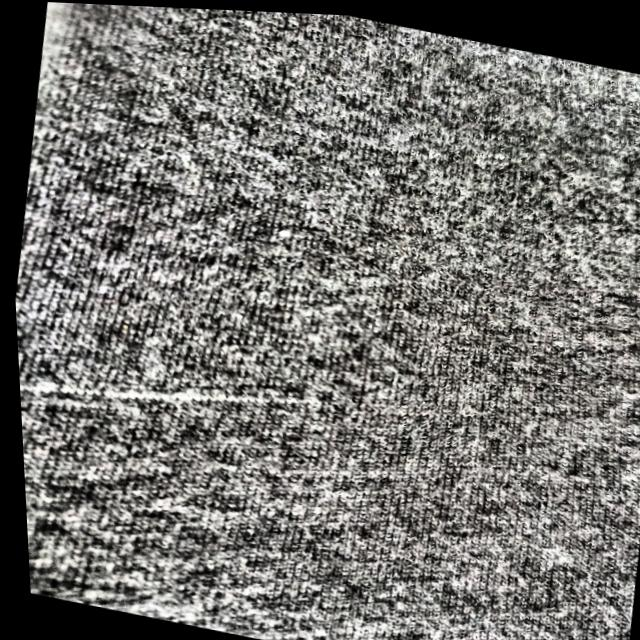Hole: (263, 216, 300, 247)
Stitch: (13, 319, 330, 471)
